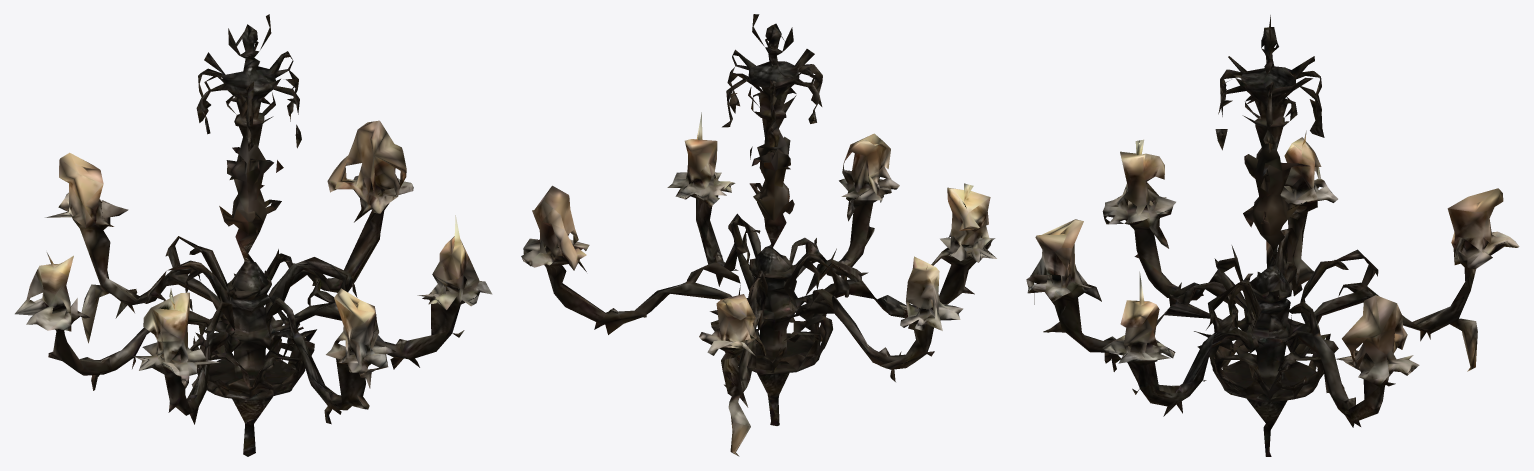
The model's file is candle_chandelier.glb.
3 views of the same model, side by side, from view 1: azimuth 30°, elevation 25°; view 2: azimuth 150°, elevation 25°; view 3: azimuth 270°, elevation 25° (orthographic). The views are drawn at different scales.
Parts seen in each view (by area): view 1: tripo_node_8b0a39f8-2b75-4a5f-9c9c-1b4815f0e047; view 2: tripo_node_8b0a39f8-2b75-4a5f-9c9c-1b4815f0e047; view 3: tripo_node_8b0a39f8-2b75-4a5f-9c9c-1b4815f0e047.
Boxes of the visible parts, x1,y1,x2,y2 form: tripo_node_8b0a39f8-2b75-4a5f-9c9c-1b4815f0e047: (15,14,492,456); tripo_node_8b0a39f8-2b75-4a5f-9c9c-1b4815f0e047: (521,14,996,456); tripo_node_8b0a39f8-2b75-4a5f-9c9c-1b4815f0e047: (1026,15,1519,456).
Size of the model in its own units: 0.8422 by 0.8269 by 0.8463.
Materials: 1 (1 with a texture image).
